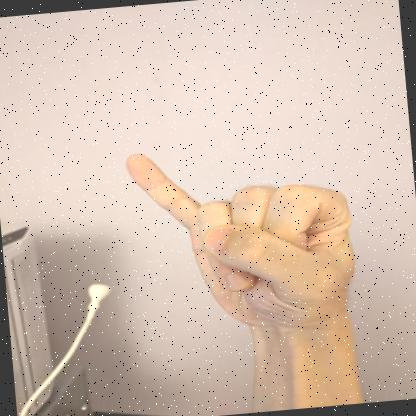I: (126, 154, 355, 334)
